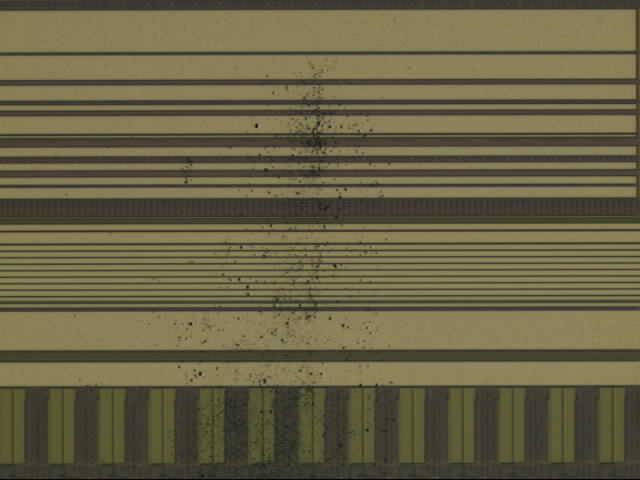PO CONTAMINATION: (149, 49, 405, 480)
